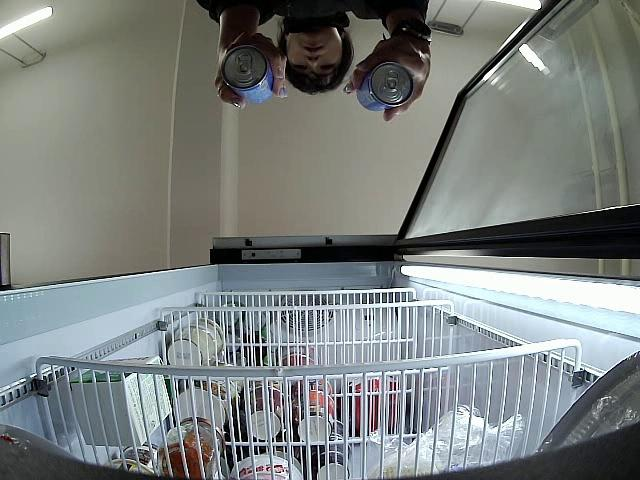00_hand: (344, 19, 431, 121), (213, 31, 289, 112)
15_letsbe: (221, 46, 275, 106), (358, 62, 413, 112)
